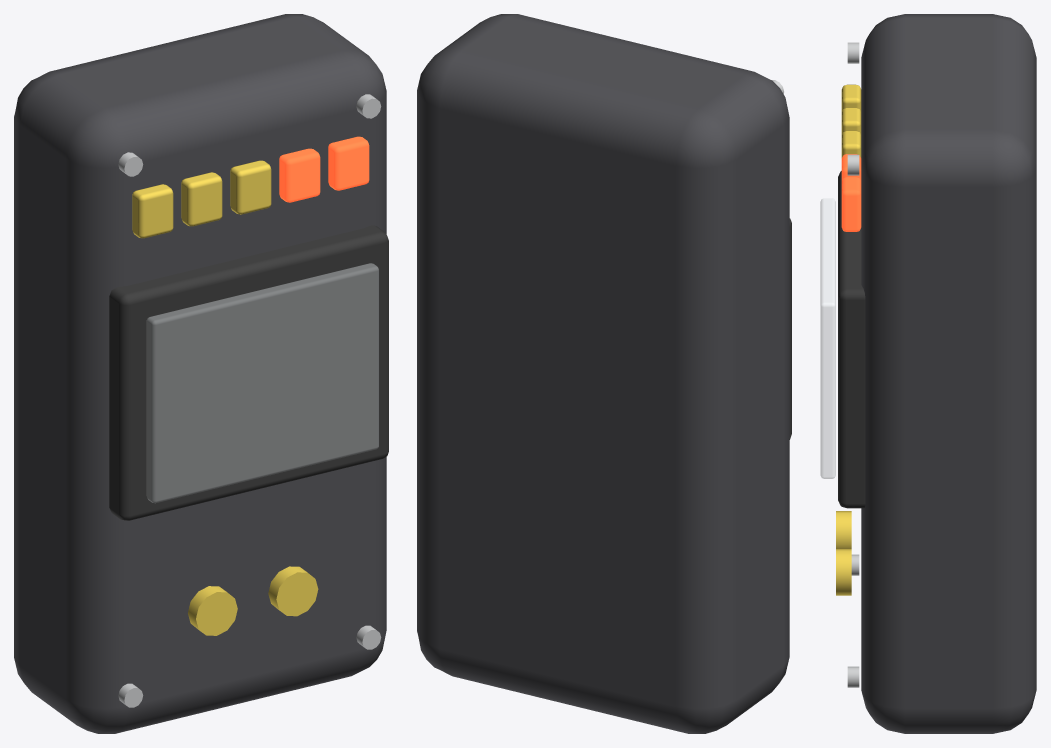
The model's file is paranormal-investigation-house-emf-reader-4f259cdd__26763.glb.
3 views of the same model, side by side, from view 1: azimuth 30°, elevation 25°; view 2: azimuth 150°, elevation 25°; view 3: azimuth 270°, elevation 25° (orthographic). The views are drawn at different scales.
Visible parts, largest first — view 1: emf-reader; view 2: emf-reader; view 3: emf-reader.
Part boxes in pixels (box(x1,y1,x2,y2)): emf-reader: box(14, 14, 388, 733); emf-reader: box(417, 14, 791, 733); emf-reader: box(820, 14, 1036, 733).
Bounding box in the file's own units: 0.09 × 0.17 × 0.0555.
